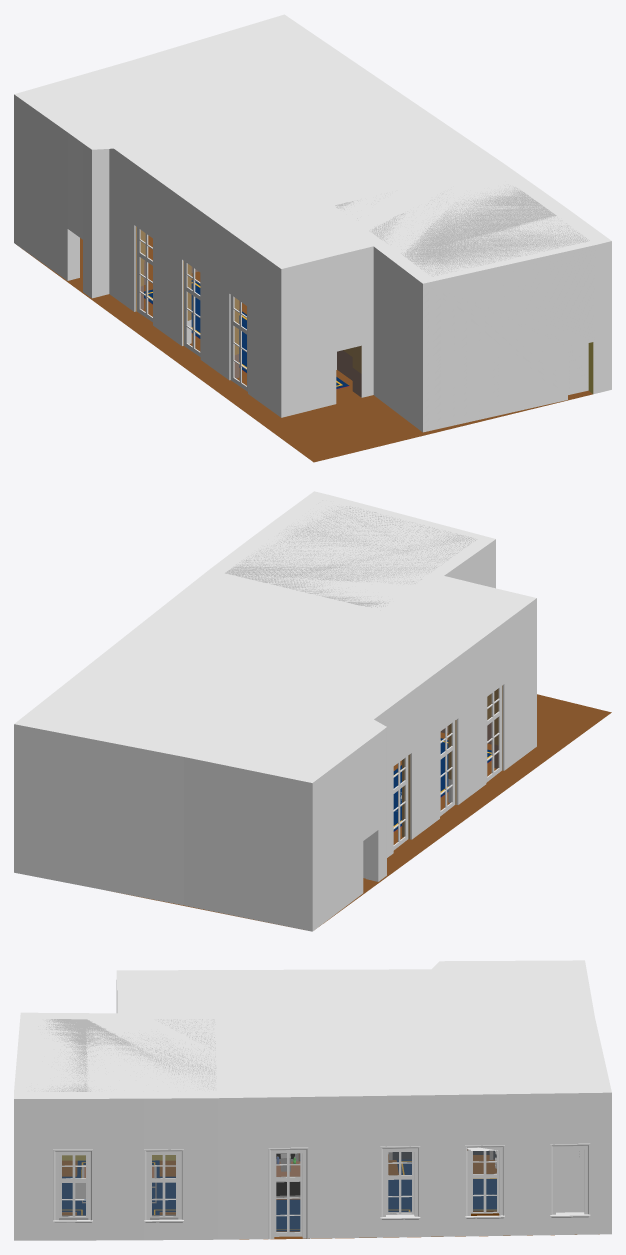
Rendered from salegithub.obj.
3 views of the same model, one above another, from view 1: azimuth 30°, elevation 25°; view 2: azimuth 150°, elevation 25°; view 3: azimuth 270°, elevation 25° (orthographic). The views are drawn at different scales.
Visible parts, largest first — view 1: Mesh137 Component_929 Model, Mesh238 Model, Mesh239 Model, Mesh226 Component_945 Model, Mesh101 Component_882_2 Model, Mesh99 Component_882 Model, Mesh100 Component_882_1 Model; view 2: Mesh137 Component_929 Model, Mesh239 Model, Mesh238 Model, Mesh101 Component_882_2 Model, Mesh99 Component_882 Model, Mesh100 Component_882_1 Model; view 3: Mesh137 Component_929 Model, Mesh239 Model, Mesh58 Group34 Model, Mesh160 Component_838 Model, Mesh238 Model, Mesh166 Component_882_3 Model, Mesh192 Component_869 Model, Mesh151 Component_842 Model, Mesh49 Group25 Model, Mesh191 Component_860 Model, Mesh209 Component_851 Model, Mesh184 Component_931 Model (+1 smaller).
Part boxes in pixels (x1,y1,x2,y2): Mesh137 Component_929 Model: [14, 14, 611, 432]; Mesh238 Model: [21, 235, 592, 462]; Mesh239 Model: [335, 184, 589, 276]; Mesh226 Component_945 Model: [568, 343, 588, 394]; Mesh101 Component_882_2 Model: [230, 295, 247, 391]; Mesh99 Component_882 Model: [184, 261, 200, 356]; Mesh100 Component_882_1 Model: [137, 227, 152, 321]; Mesh137 Component_929 Model: [14, 491, 536, 931]; Mesh239 Model: [225, 500, 477, 610]; Mesh238 Model: [114, 694, 611, 926]; Mesh101 Component_882_2 Model: [486, 686, 501, 782]; Mesh99 Component_882 Model: [440, 721, 455, 816]; Mesh100 Component_882_1 Model: [393, 756, 408, 850]; Mesh137 Component_929 Model: [14, 960, 611, 1240]; Mesh239 Model: [34, 1019, 216, 1091]; Mesh58 Group34 Model: [62, 1159, 496, 1231]; Mesh160 Component_838 Model: [556, 1149, 584, 1212]; Mesh238 Model: [62, 1154, 599, 1239]; Mesh166 Component_882_3 Model: [274, 1153, 302, 1236]; Mesh192 Component_869 Model: [59, 1155, 88, 1217]; Mesh151 Component_842 Model: [468, 1148, 499, 1213]; Mesh49 Group25 Model: [276, 1154, 300, 1199]; Mesh191 Component_860 Model: [150, 1155, 178, 1217]; Mesh209 Component_851 Model: [386, 1152, 414, 1214]; Mesh184 Component_931 Model: [268, 1147, 308, 1239].
Size of the model in its own units: 13.25 by 6.26 by 23.96.
